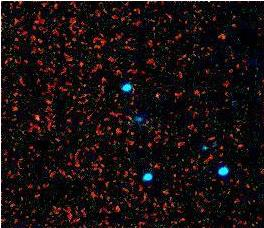star: (21, 102, 51, 132)
